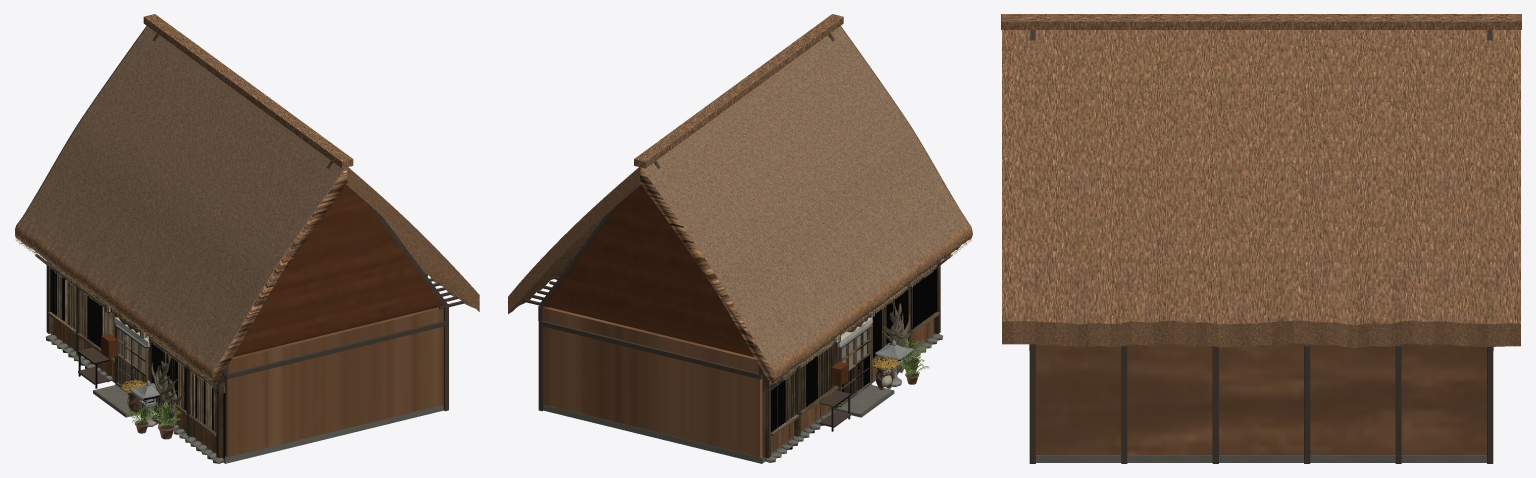
The model's file is irori-restaurant-v6.glb.
3 views of the same model, side by side, from view 1: azimuth 30°, elevation 25°; view 2: azimuth 150°, elevation 25°; view 3: azimuth 270°, elevation 25° (orthographic). The views are drawn at different scales.
Parts seen in each view (by area): view 1: irori-v6-roof, irori-v6-body, irori-v6-fibers, irori-v6-garden; view 2: irori-v6-roof, irori-v6-body, irori-v6-fibers, irori-v6-garden; view 3: irori-v6-roof, irori-v6-body.
Boxes of the visible parts, bbox=[...] form: irori-v6-roof: bbox=[15, 14, 479, 384]; irori-v6-body: bbox=[35, 33, 464, 463]; irori-v6-fibers: bbox=[15, 166, 251, 384]; irori-v6-garden: bbox=[121, 355, 185, 439]; irori-v6-roof: bbox=[508, 14, 972, 384]; irori-v6-body: bbox=[524, 33, 952, 463]; irori-v6-fibers: bbox=[740, 161, 972, 384]; irori-v6-garden: bbox=[870, 299, 930, 390]; irori-v6-roof: bbox=[1001, 14, 1521, 347]; irori-v6-body: bbox=[1029, 30, 1493, 463].
Bounding box in the file's own units: 11.33 × 10.79 × 13.55.
Materials: 9 (4 with a texture image).
